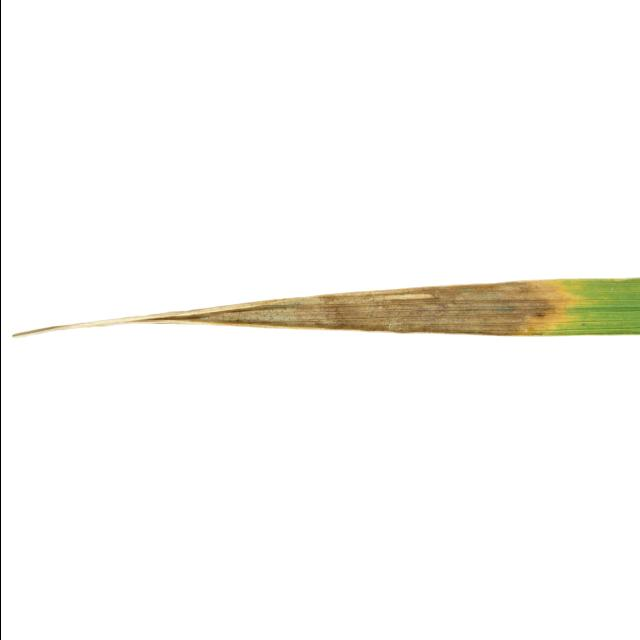Leaf scald: (0, 166, 640, 413)
